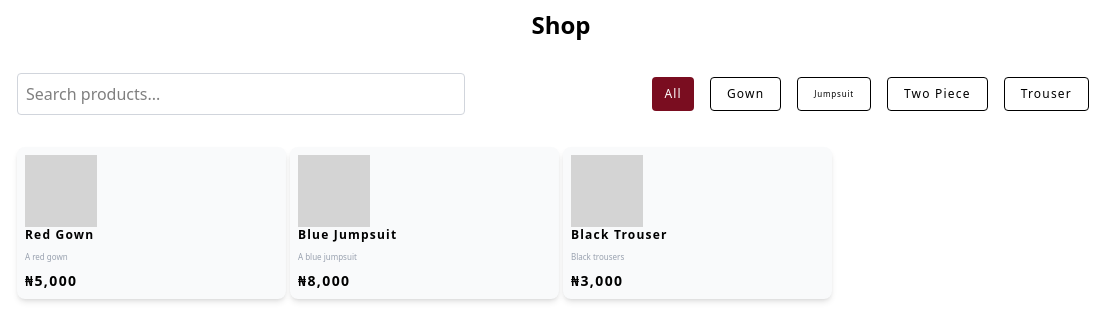
Test: Product Page › filters by Gown category
The image size is (1106, 320).
Click the button "Gown". click: (746, 94)
box: [710, 77, 781, 111]
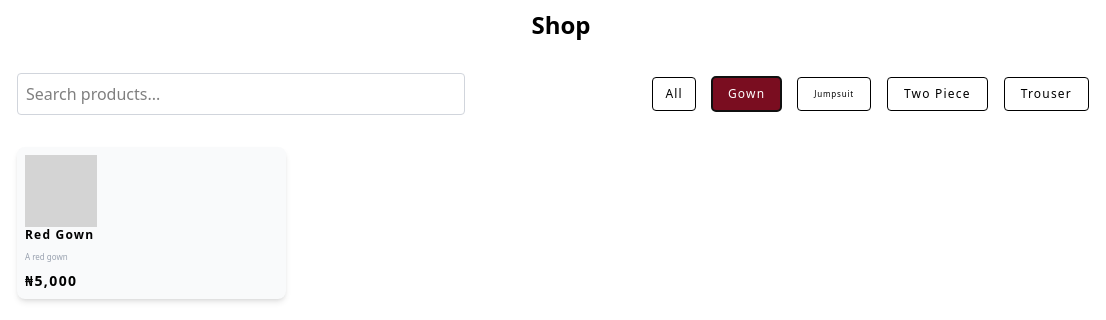
Check: the text "Red Gown" is shown, box [25, 226, 94, 243]
Check: the text "Blue Jumpsuit" is gone
